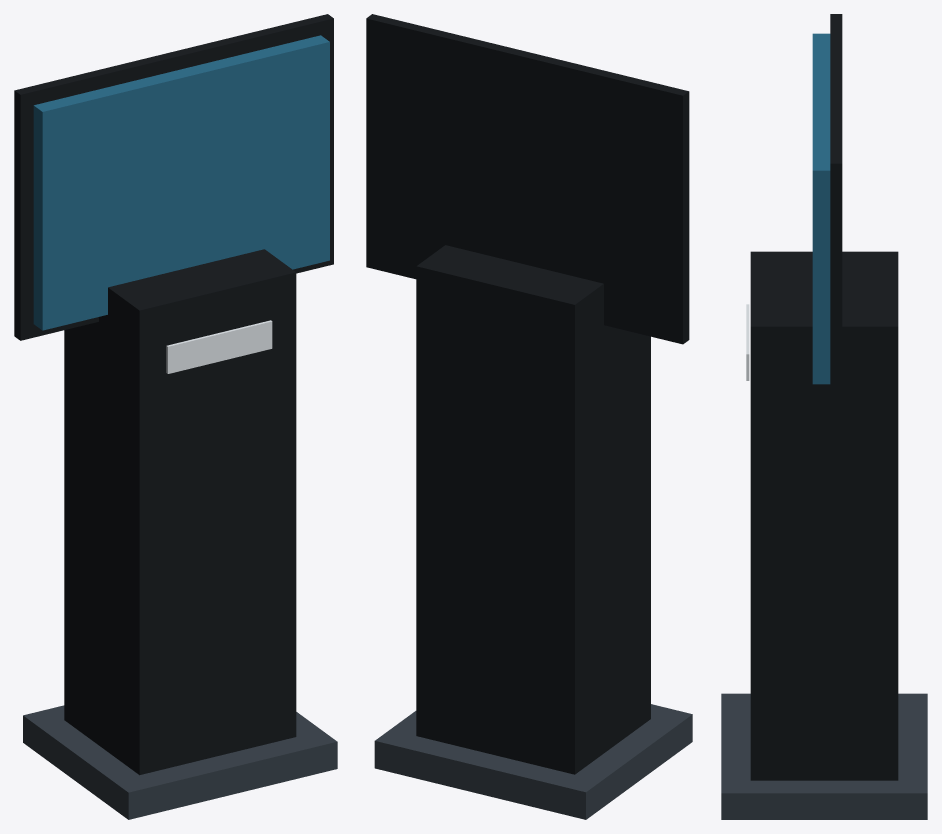
The picture shows the model from 3 angles, left to right: view 1: azimuth 30°, elevation 25°; view 2: azimuth 150°, elevation 25°; view 3: azimuth 270°, elevation 25°; orthographic projection. The views are drawn at different scales.
Parts seen in each view (by area): view 1: column, screen, base, screen:bezel, label:hmi; view 2: column, screen:bezel, base; view 3: column, base, screen, screen:bezel.
Part boxes in pixels (left/top/right/bottom): column: left=64, top=249, right=296, bottom=775; screen: left=33, top=35, right=329, bottom=330; base: left=23, top=705, right=337, bottom=819; screen:bezel: left=14, top=14, right=333, bottom=340; label:hmi: left=166, top=320, right=272, bottom=373; column: left=416, top=245, right=650, bottom=774; screen:bezel: left=366, top=14, right=689, bottom=344; base: left=374, top=704, right=692, bottom=819; column: left=750, top=251, right=898, bottom=780; base: left=721, top=693, right=927, bottom=819; screen: left=812, top=33, right=830, bottom=384; screen:bezel: left=830, top=14, right=842, bottom=403.
Bounding box in the file's own units: 0.6 × 1.27 × 0.35.
